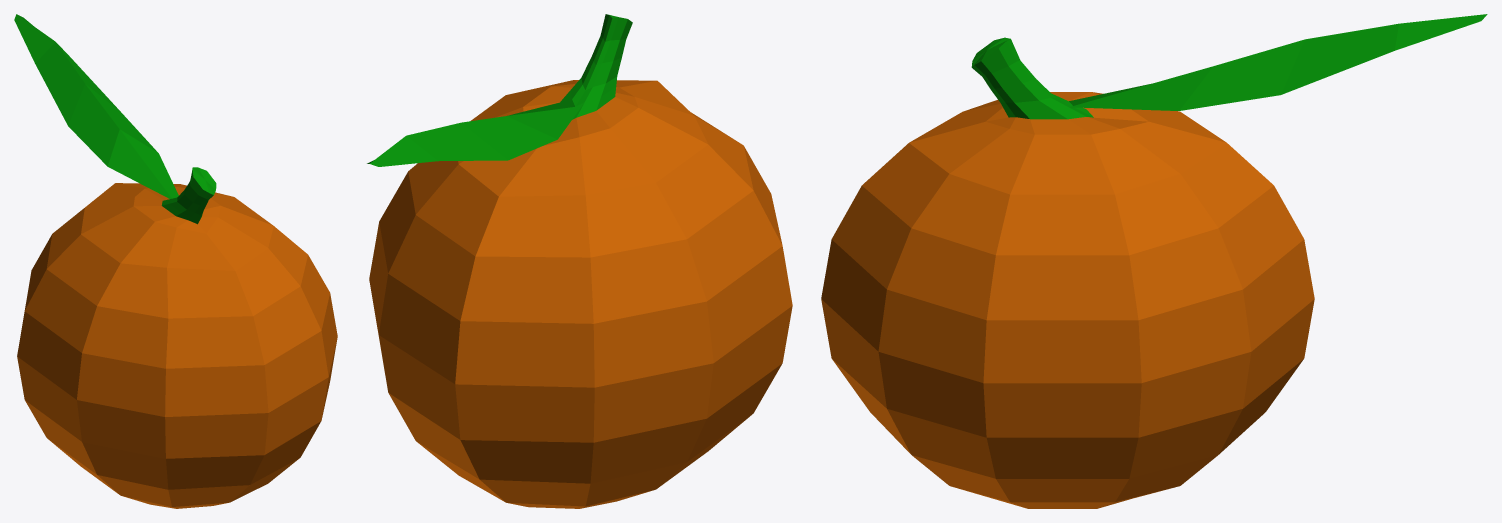
The model's file is GamesE_E03_mandarina.fbx.
3 renders of one model, left to right at view 1: azimuth 30°, elevation 25°; view 2: azimuth 150°, elevation 25°; view 3: azimuth 270°, elevation 25°, orthographic. The views are drawn at different scales.
Visible parts, largest first — view 1: Sphere; view 2: Sphere; view 3: Sphere.
Boxes of the visible parts, box(x1,y1,x2,y2) form: Sphere: box(14, 14, 337, 508); Sphere: box(367, 14, 792, 508); Sphere: box(821, 14, 1487, 508).
Bounding box in the file's own units: 253 × 332 × 422.
